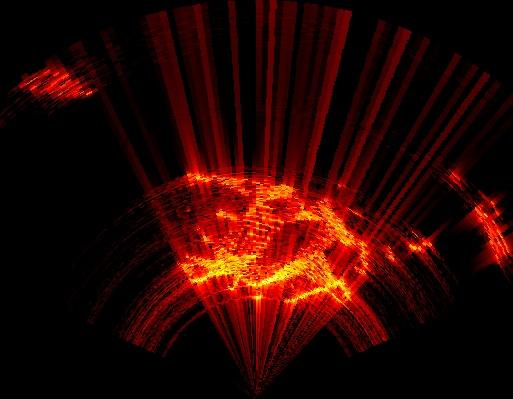shipwreck: (182, 183, 369, 301), (472, 205, 508, 260), (187, 175, 248, 192), (406, 233, 432, 252), (384, 246, 397, 263)
